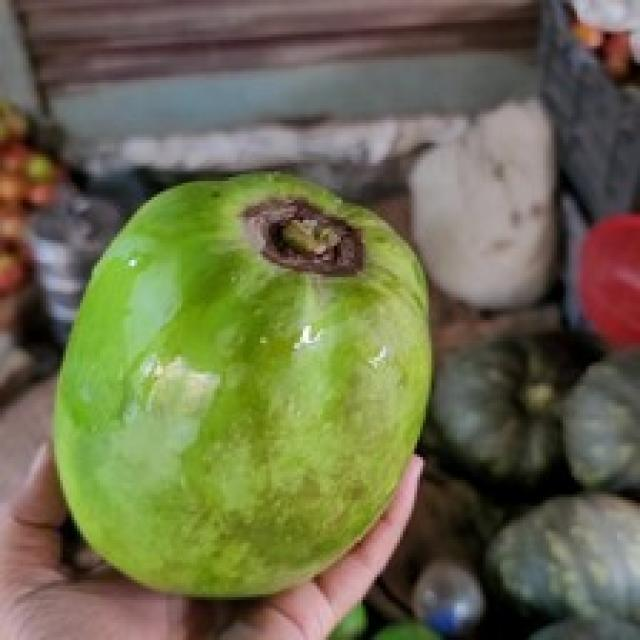Pepaya unrippen: (45, 183, 440, 599)
